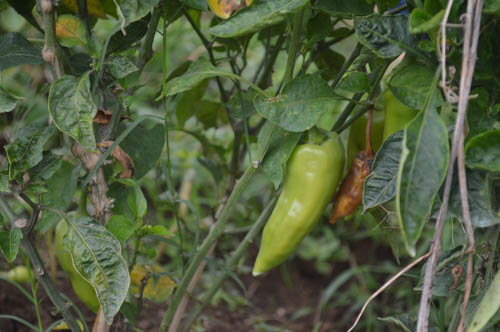ChiliPepper: (251, 140, 344, 289)
